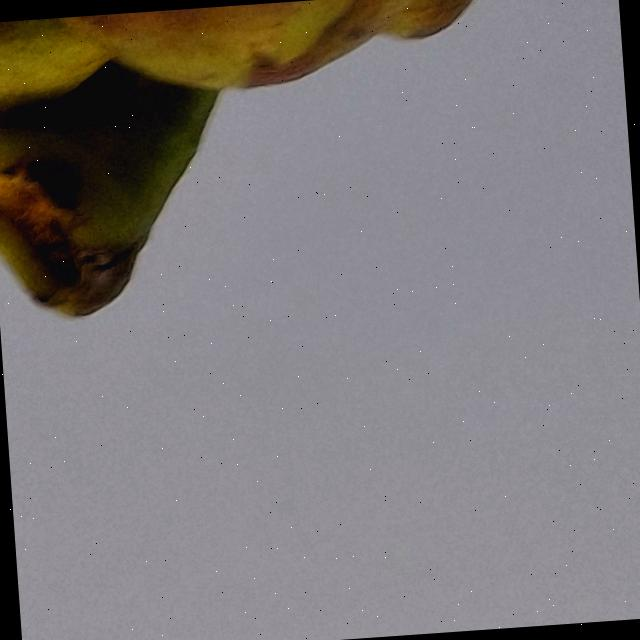mangosteen: (0, 0, 640, 397)
